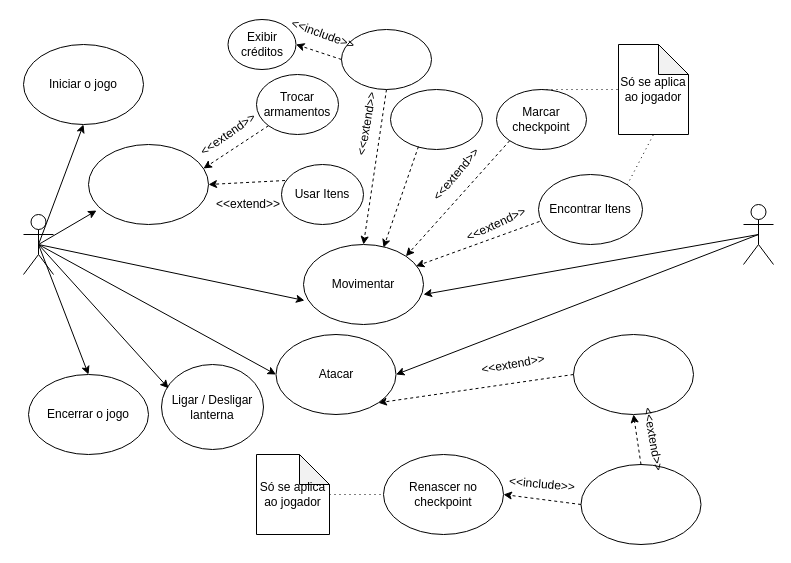
Some shapes in this 791 by 563 pixel diagram are drawn without their labels. Here are the shapes that lost their labels. From the top down, the box of each, then its label:
(340, 28, 432, 90): Vencer o jogo
(390, 88, 482, 150): Entrar em cômodos
(88, 144, 208, 224): Verificar Inventário
(22, 214, 54, 274): Jogador
(742, 204, 774, 264): NPC
(572, 334, 694, 414): Perder vida
(580, 464, 701, 544): Morrer
